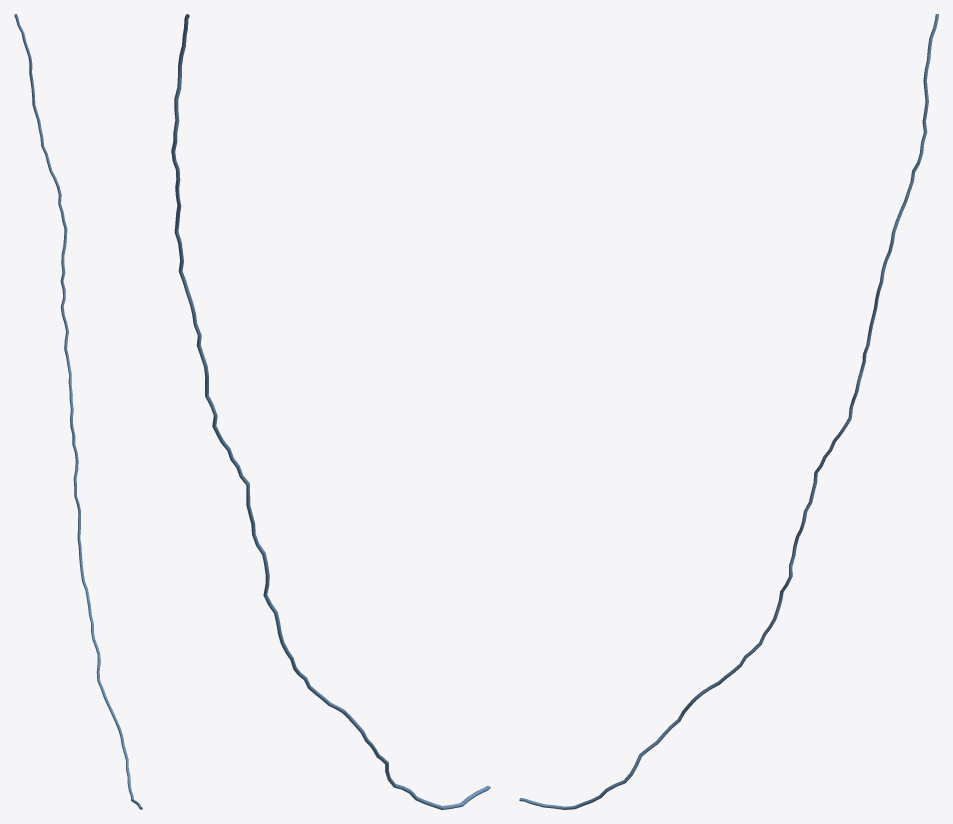
File: sweep335.fbx
3 views of the same model, side by side, from view 1: azimuth 30°, elevation 25°; view 2: azimuth 150°, elevation 25°; view 3: azimuth 270°, elevation 25° (orthographic). The views are drawn at different scales.
Visible parts, largest first — view 1: sweep335; view 2: sweep335; view 3: sweep335.
Boxes of the visible parts, x1,y1,x2,y2 form: sweep335: (14, 14, 142, 809); sweep335: (171, 14, 490, 809); sweep335: (519, 14, 938, 809).
Bounding box in the file's own units: 0.5803 × 5 × 2.33.
